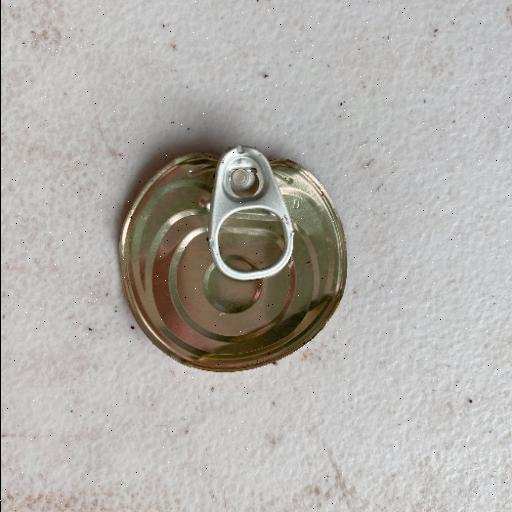Metal: (116, 144, 348, 374)
